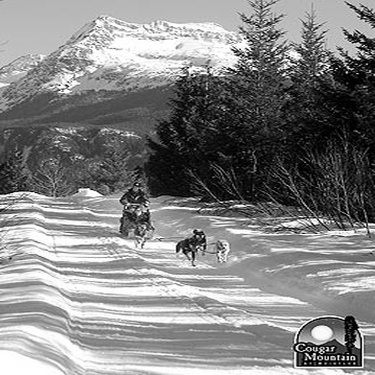dog: (174, 226, 208, 267), (130, 221, 155, 252), (130, 204, 153, 233), (213, 234, 232, 265)
